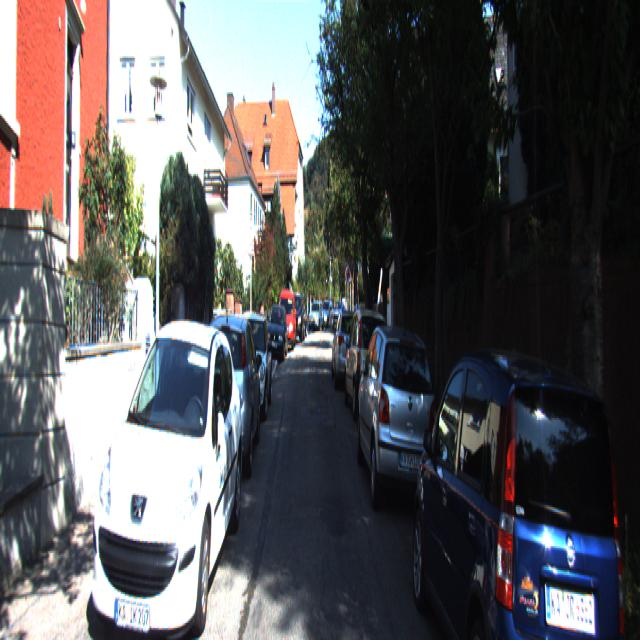Car: (410, 323, 640, 638), (86, 309, 245, 638), (357, 322, 444, 538), (199, 309, 261, 486), (343, 308, 392, 429), (227, 315, 273, 427), (332, 305, 366, 395), (266, 305, 288, 366), (278, 289, 297, 354), (286, 294, 304, 348)
